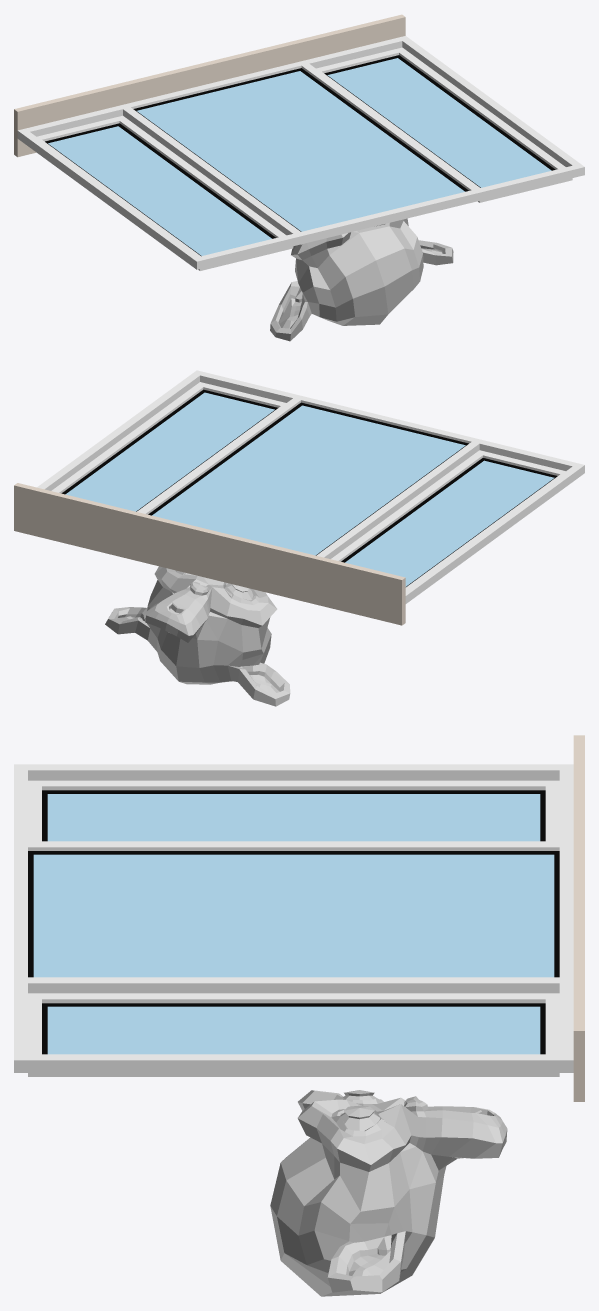
Rendered from windowTransparenceTest.fbx.
The picture shows the model from 3 angles, top to bottom: view 1: azimuth 30°, elevation 25°; view 2: azimuth 150°, elevation 25°; view 3: azimuth 270°, elevation 25°; orthographic projection. The views are drawn at different scales.
Parts seen in each view (by area): view 1: Window, Suzanne; view 2: Window, Suzanne; view 3: Window, Suzanne.
Part boxes in pixels (bbox=[...]): Window: bbox=[14, 14, 584, 270]; Suzanne: bbox=[270, 218, 453, 341]; Window: bbox=[14, 370, 584, 625]; Suzanne: bbox=[105, 566, 290, 706]; Window: bbox=[14, 735, 584, 1101]; Suzanne: bbox=[270, 1090, 507, 1296].
Size of the model in its own units: 2.5 by 1.37 by 2.04.
